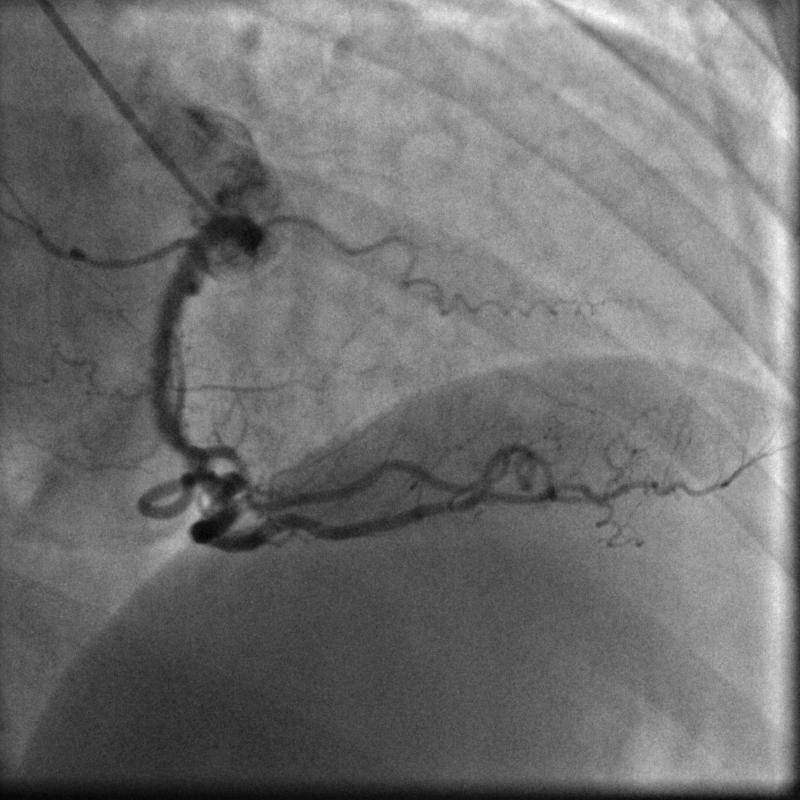Stenosis: (161, 438, 220, 478)
